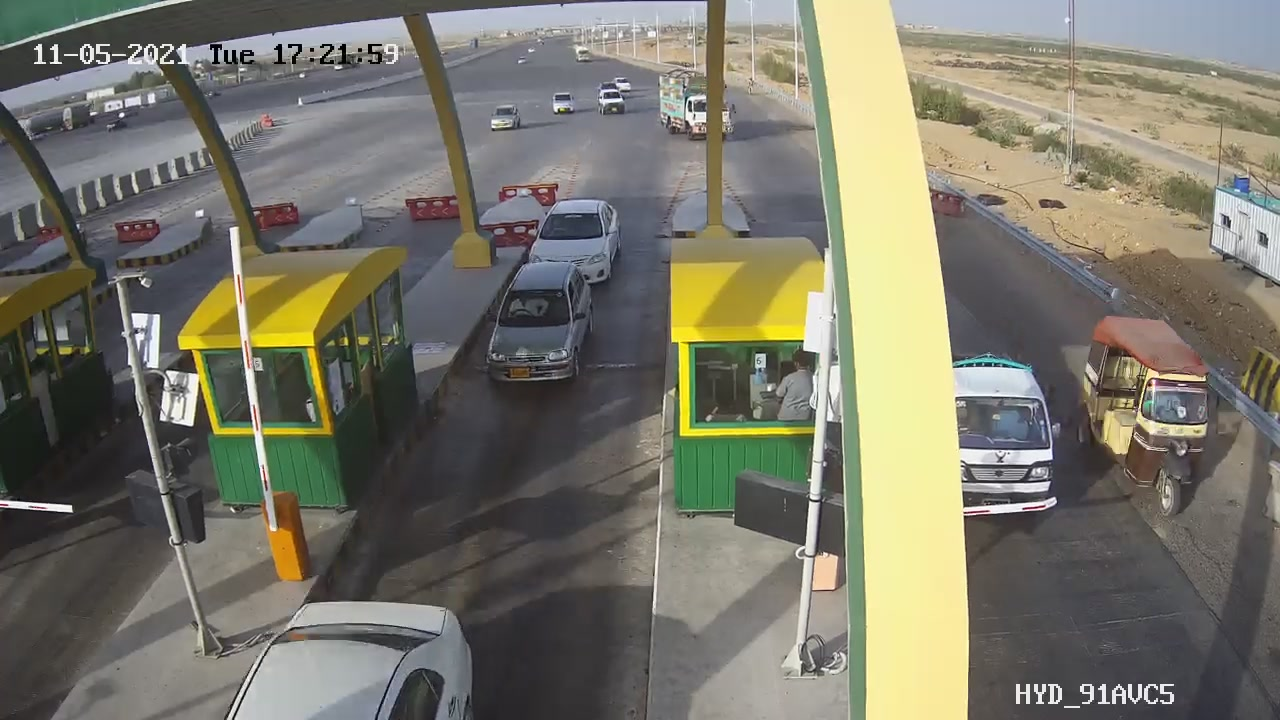F1: (466, 252, 609, 400), (520, 185, 634, 300)
